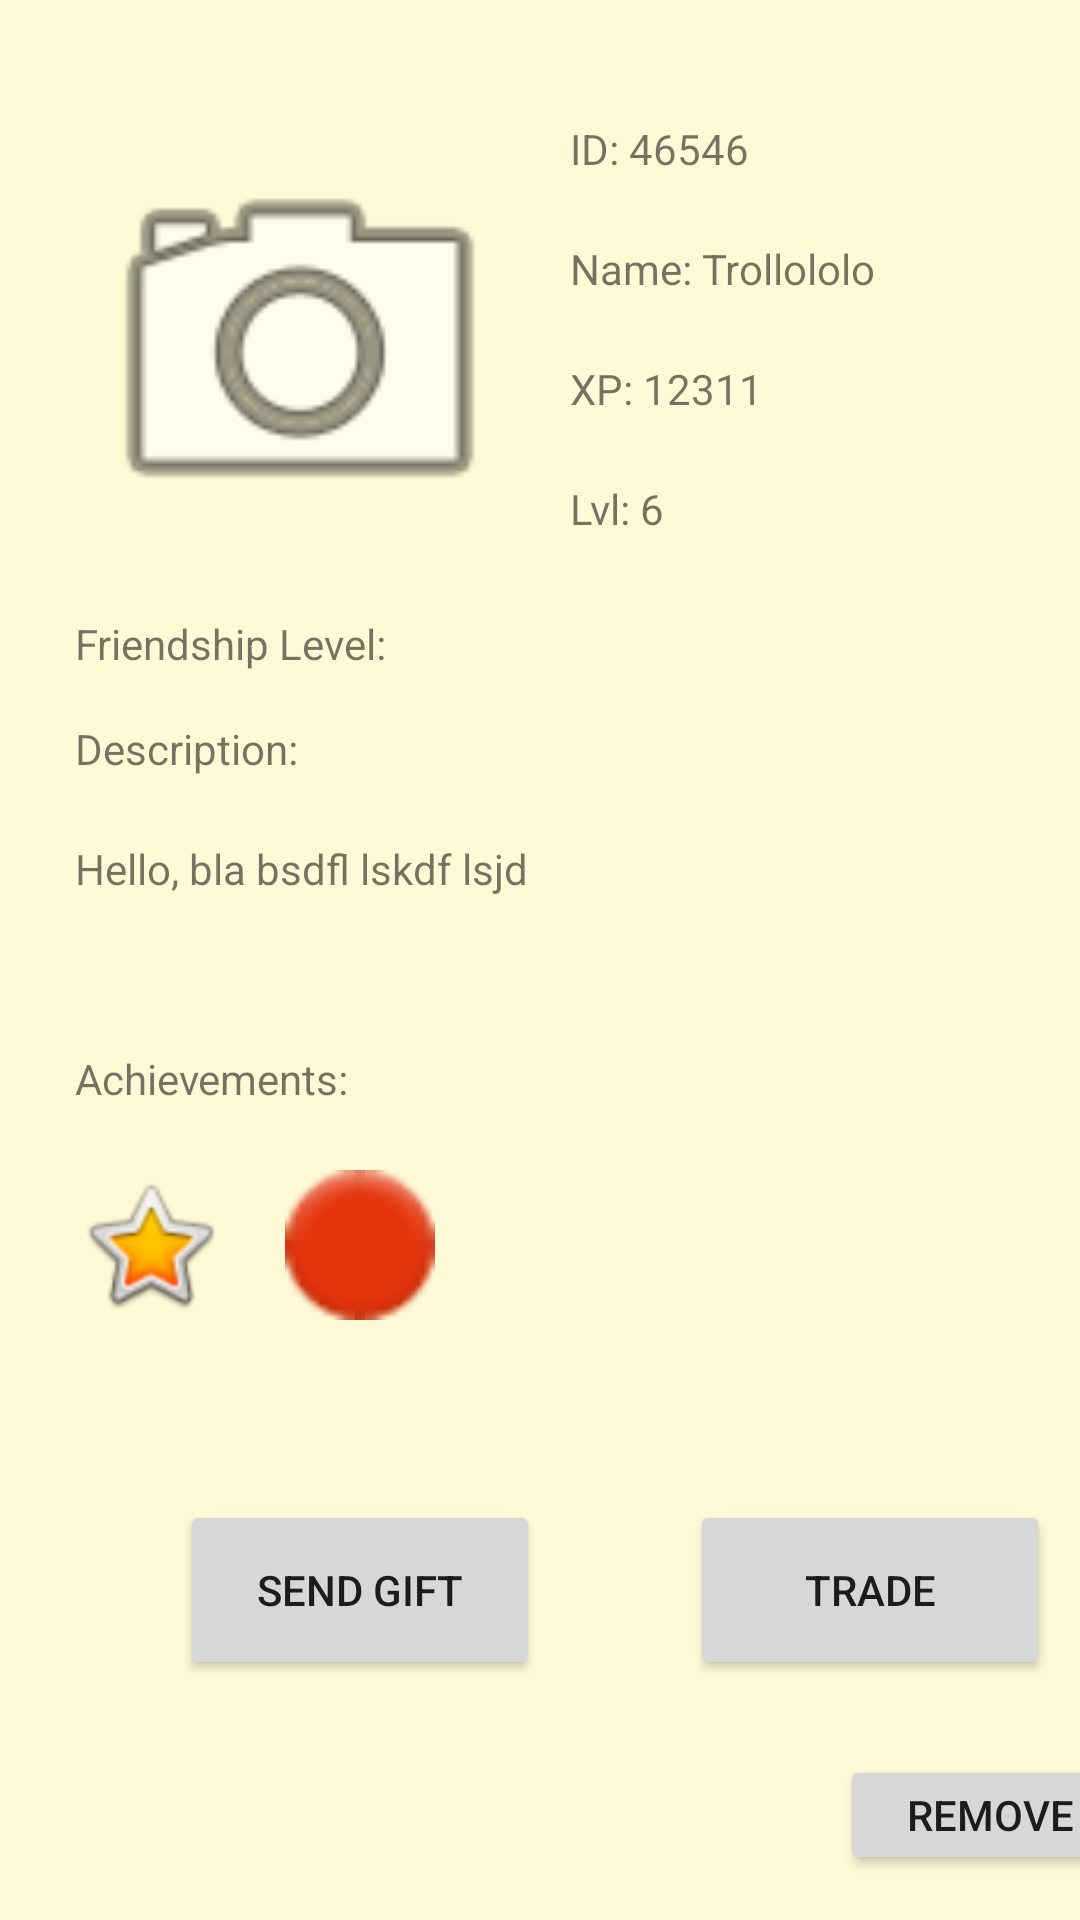

Icons on this 1080w x 1920h Android screen, each with the point to tap as (x=x, y=y):
camera: (x=300, y=338)
star on: (x=151, y=1246)
